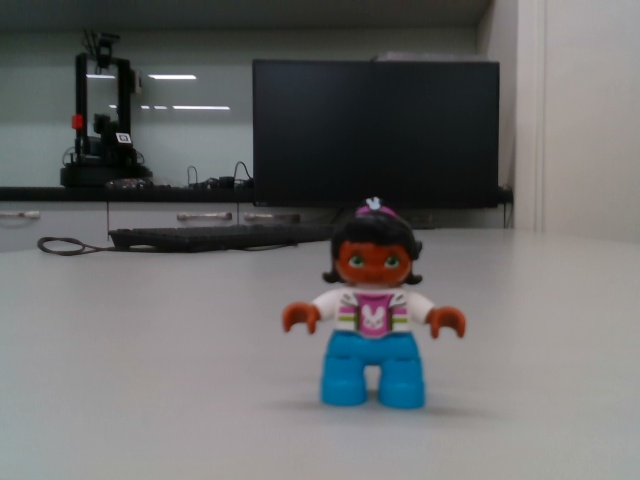people: (276, 194, 471, 417)
